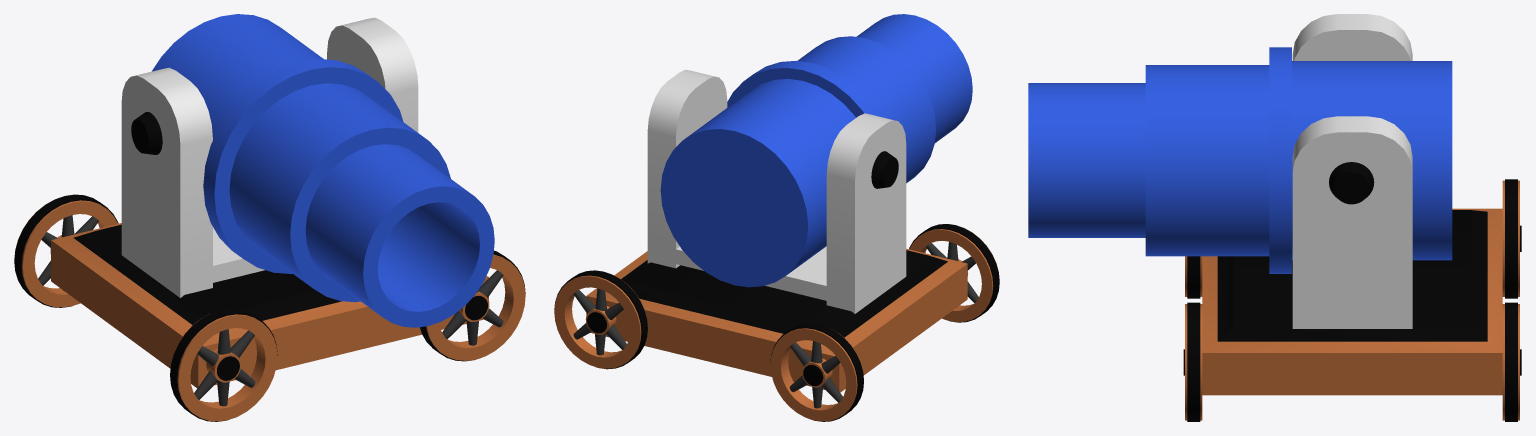
Rendered from Big_Bertha_Cannon.fbx.
The picture shows the model from 3 angles, left to right: view 1: azimuth 30°, elevation 25°; view 2: azimuth 150°, elevation 25°; view 3: azimuth 270°, elevation 25°; orthographic projection. The views are drawn at different scales.
Parts seen in each view (by area): view 1: Cylinder.003, Plane.007, Plane.008; view 2: Cylinder.003, Plane.007, Plane.008; view 3: Cylinder.003, Plane.007, Plane.008.
Part boxes in pixels (<box>): Cylinder.003: <box>152,14,494,327</box>; Plane.007: <box>14,194,525,421</box>; Plane.008: <box>121,17,418,297</box>; Cylinder.003: <box>660,14,972,287</box>; Plane.007: <box>554,224,999,421</box>; Plane.008: <box>647,69,906,313</box>; Cylinder.003: <box>1028,47,1452,273</box>; Plane.007: <box>1183,179,1521,421</box>; Plane.008: <box>1292,14,1412,328</box>.
Bounding box in the file's own units: 2001 × 1593 × 2398.
